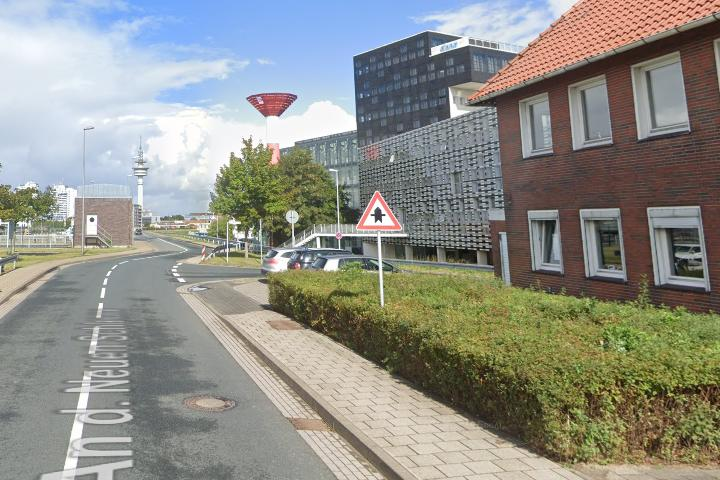traffic_sign: (354, 190, 402, 230)
